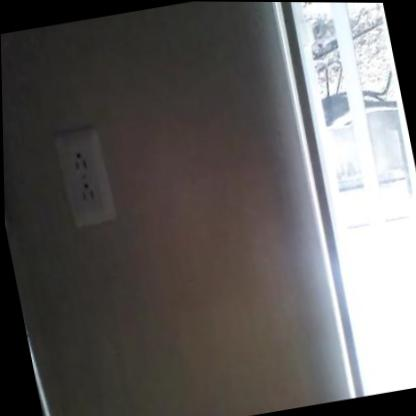OUTLET: (53, 127, 115, 227)
